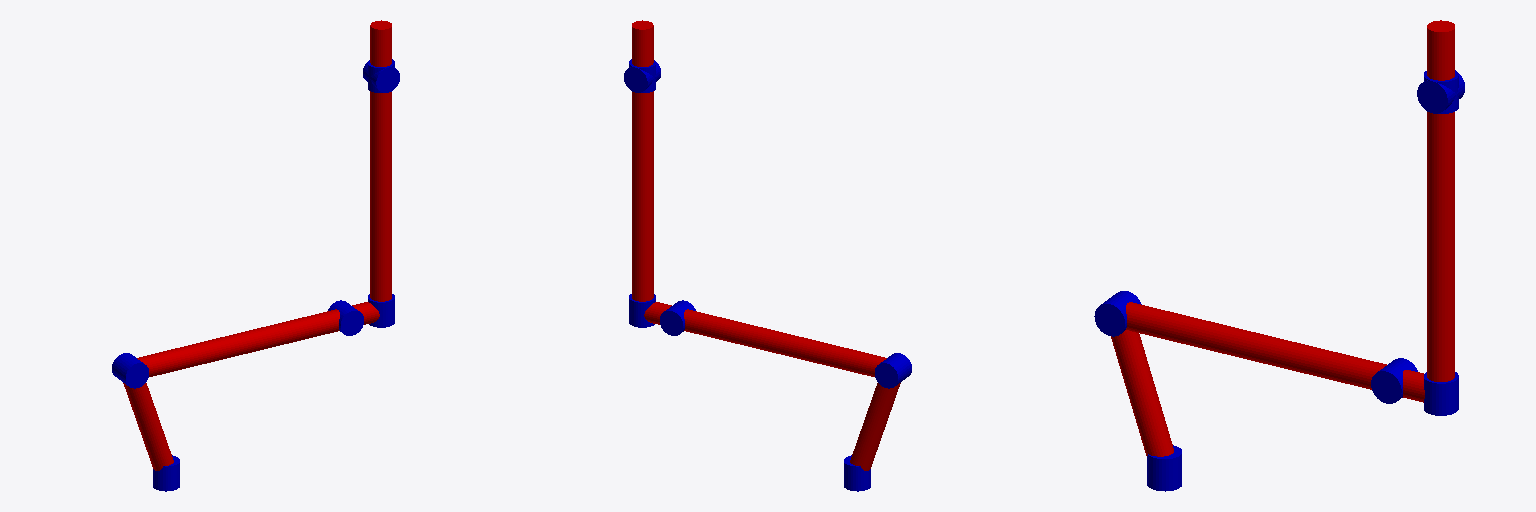
URDF robot description (robot):
<robot name='robot'>
	<material name='blue'>
		<color rgba='0 0 0.8 1'/>
	</material>
	<material name='red'>
		<color rgba='0.8 0 0 1'/>
	</material>
	<link name='a0'>
		<visual>
			<origin rpy='-0.0 0.0 0.0' xyz='0.0 0.0 0.0'/>
			<geometry>
				<cylinder length='1' radius='0.5'/>
			</geometry>
			<material name='blue'/>
		</visual>
	</link>
	<link name='l0'>
		<visual>
			<origin rpy='-0.0 -0.32511754504015 0.0' xyz='-0.75 -0.0 2.225'/>
			<geometry>
				<cylinder length='4.696008943773426' radius='0.4'/>
			</geometry>
			<material name='red'>
                <color rgba='0.8 0 0 1'/>
            </material>
		</visual>
	</link>
	<joint name='move_l0_from_a0' type='continuous'>
		<parent link='a0'/>
		<child link='l0'/>
		<axis xyz='0.0 0.0 1.0'/>
		<origin rpy='0 0 0' xyz='0.0 0.0 0.0'/>
	</joint>
	<link name='a1'>
		<visual>
			<origin rpy='-1.5707963267948966 0.0 0.0' xyz='-1.5 -0.0 4.45'/>
			<geometry>
				<cylinder length='1' radius='0.5'/>
			</geometry>
			<material name='blue'/>
		</visual>
	</link>
	<joint name='fix_a1_to_l0' type='fixed'>
		<parent link='l0'/>
		<child link='a1'/>
		<origin rpy='0 0 0' xyz='0 0 0'/>
	</joint>
	<link name='l1'>
		<visual>
			<origin rpy='-0.0 1.5707963267948966 0.0' xyz='4.5 0.0 0.0'/>
			<geometry>
				<cylinder length='9.0' radius='0.4'/>
			</geometry>
			<material name='red'/>
		</visual>
	</link>
	<joint name='move_l1_from_a1' type='continuous'>
		<parent link='a1'/>
		<child link='l1'/>
		<axis xyz='0.0 1.0 6.123233995736766e-17'/>
		<origin rpy='0 0 0' xyz='-1.5 -0.0 4.45'/>
	</joint>
	<link name='a2'>
		<visual>
			<origin rpy='-1.5707963267948966 0.0 0.0' xyz='9.0 0.0 0.0'/>
			<geometry>
				<cylinder length='1' radius='0.5'/>
			</geometry>
			<material name='blue'/>
		</visual>
	</link>
	<joint name='fix_a2_to_l1' type='fixed'>
		<parent link='l1'/>
		<child link='a2'/>
		<origin rpy='0 0 0' xyz='0 0 0'/>
	</joint>
	<link name='l2'>
		<visual>
			<origin rpy='-0.0 1.5707963267948966 0.0' xyz='0.75 0.0 0.0'/>
			<geometry>
				<cylinder length='1.5' radius='0.4'/>
			</geometry>
			<material name='red'/>
		</visual>
	</link>
	<joint name='move_l2_from_a2' type='continuous'>
		<parent link='a2'/>
		<child link='l2'/>
		<axis xyz='0.0 1.0 6.123233995736766e-17'/>
		<origin rpy='0 0 0' xyz='9.0 0.0 0.0'/>
	</joint>
	<link name='a3'>
		<visual>
			<origin rpy='-3.1415926535897927 0.0 0.0' xyz='1.5 0.0 0.0'/>
			<geometry>
				<cylinder length='1' radius='0.5'/>
			</geometry>
			<material name='blue'/>
		</visual>
	</link>
	<joint name='fix_a3_to_l2' type='fixed'>
		<parent link='l2'/>
		<child link='a3'/>
		<origin rpy='0 0 0' xyz='0 0 0'/>
	</joint>
	<link name='l3'>
		<visual>
			<origin rpy='-0.0 0.0 0.0' xyz='0.0 0.0 4.69'/>
			<geometry>
				<cylinder length='9.38' radius='0.4'/>
			</geometry>
			<material name='red'/>
		</visual>
	</link>
	<joint name='move_l3_from_a3' type='continuous'>
		<parent link='a3'/>
		<child link='l3'/>
		<axis xyz='0.0 1.2246467991473532e-16 -1.0'/>
		<origin rpy='0 0 0' xyz='1.5 0.0 0.0'/>
	</joint>
	<link name='a4'>
		<visual>
			<origin rpy='-1.5707963267948966 0.0 0.0' xyz='0.0 0.0 9.38'/>
			<geometry>
				<cylinder length='1' radius='0.5'/>
			</geometry>
			<material name='blue'/>
		</visual>
	</link>
	<joint name='fix_a4_to_l3' type='fixed'>
		<parent link='l3'/>
		<child link='a4'/>
		<origin rpy='0 0 0' xyz='0 0 0'/>
	</joint>
	<link name='l4'>
		<visual>
			<origin rpy='0 0 0' xyz='0.0 0.0 0.0'/>
			<geometry>
				<cylinder length='0.0' radius='0.4'/>
			</geometry>
			<material name='red'/>
		</visual>
	</link>
	<joint name='move_l4_from_a4' type='continuous'>
		<parent link='a4'/>
		<child link='l4'/>
		<axis xyz='0.0 1.0 6.123233995736766e-17'/>
		<origin rpy='0 0 0' xyz='0.0 0.0 9.38'/>
	</joint>
	<link name='a5'>
		<visual>
			<origin rpy='-0.0 0.0 0.0' xyz='0.0 0.0 0.0'/>
			<geometry>
				<cylinder length='1' radius='0.5'/>
			</geometry>
			<material name='blue'/>
		</visual>
	</link>
	<joint name='fix_a5_to_l4' type='fixed'>
		<parent link='l4'/>
		<child link='a5'/>
		<origin rpy='0 0 0' xyz='0 0 0'/>
	</joint>
	<link name='l5'>
		<visual>
			<origin rpy='-0.0 0.0 0.0' xyz='0.0 0.0 1.0'/>
			<geometry>
				<cylinder length='2.0' radius='0.4'/>
			</geometry>
			<material name='red'/>
		</visual>
	</link>
	<joint name='move_l5_from_a5' type='continuous'>
		<parent link='a5'/>
		<child link='l5'/>
		<axis xyz='0.0 0.0 1.0'/>
		<origin rpy='0 0 0' xyz='0.0 0.0 0.0'/>
	</joint>
</robot>

--- Facts derived from the render (not from the file) ---
The picture shows the robot from 3 angles, left to right: view 1: azimuth 30°, elevation 25°; view 2: azimuth 150°, elevation 25°; view 3: azimuth 330°, elevation 25°; orthographic projection.
Model robot with 12 links and 11 joints (6 continuous, 5 fixed), rooted at a0, posed all joints at 0.
Links seen in each view (by area): view 1: l3, l1, l0, l5, a1, a2, a0, a4, a3; view 2: l3, l1, l0, l5, a1, a2, a0, a4, a3; view 3: l3, l1, l0, l5, a0, a2, a1, a3, a4, l2.
Link boxes in pixels (left/top/right/bottom): l3: left=370, top=91, right=391, bottom=301; l1: left=137, top=309, right=339, bottom=376; l0: left=123, top=383, right=173, bottom=470; l5: left=370, top=20, right=391, bottom=66; a1: left=112, top=353, right=148, bottom=388; a2: left=328, top=300, right=363, bottom=335; a0: left=153, top=455, right=179, bottom=491; a4: left=363, top=62, right=399, bottom=92; a3: left=368, top=294, right=394, bottom=327; l3: left=632, top=91, right=653, bottom=301; l1: left=684, top=309, right=886, bottom=376; l0: left=850, top=383, right=900, bottom=470; l5: left=632, top=20, right=653, bottom=66; a1: left=875, top=353, right=911, bottom=388; a2: left=660, top=300, right=695, bottom=335; a0: left=844, top=455, right=870, bottom=491; a4: left=624, top=62, right=660, bottom=92; a3: left=629, top=294, right=655, bottom=327; l3: left=1427, top=112, right=1454, bottom=381; l1: left=1126, top=302, right=1386, bottom=389; l0: left=1111, top=330, right=1173, bottom=456; l5: left=1427, top=20, right=1454, bottom=80; a0: left=1147, top=445, right=1181, bottom=491; a2: left=1371, top=358, right=1417, bottom=403; a1: left=1094, top=291, right=1141, bottom=336; a3: left=1424, top=372, right=1458, bottom=415; a4: left=1417, top=74, right=1464, bottom=113; l2: left=1403, top=370, right=1424, bottom=402.
Bounding box of the posed robot: 11.5 × 1 × 16.33 m (x, y, z).
Geometry: primitives only (box / cylinder / sphere), no mesh files.